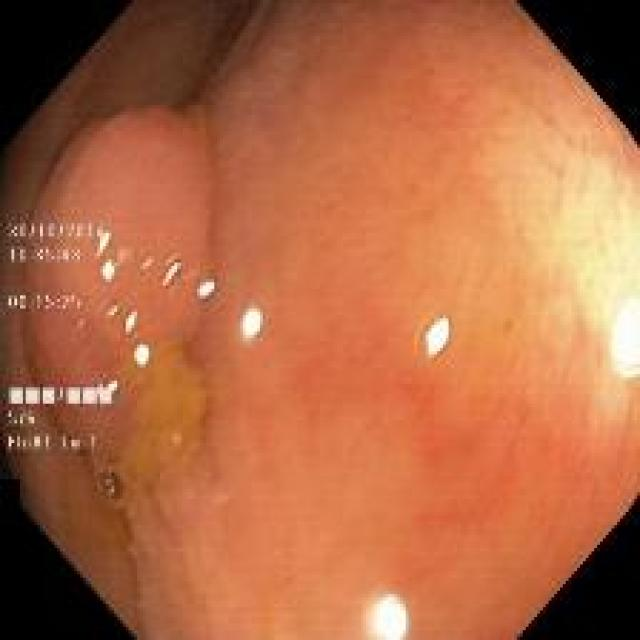Polyps: (25, 108, 209, 469)
